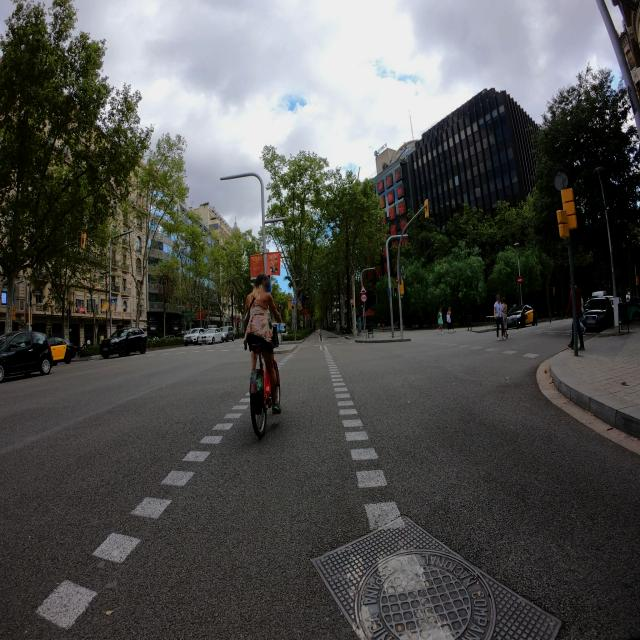bike: (245, 326, 282, 442), (424, 199, 429, 218)
car: (0, 330, 53, 384), (99, 326, 147, 358), (582, 295, 616, 331), (46, 336, 76, 364), (505, 304, 537, 328), (183, 327, 205, 345), (202, 326, 223, 344), (221, 326, 235, 342)
